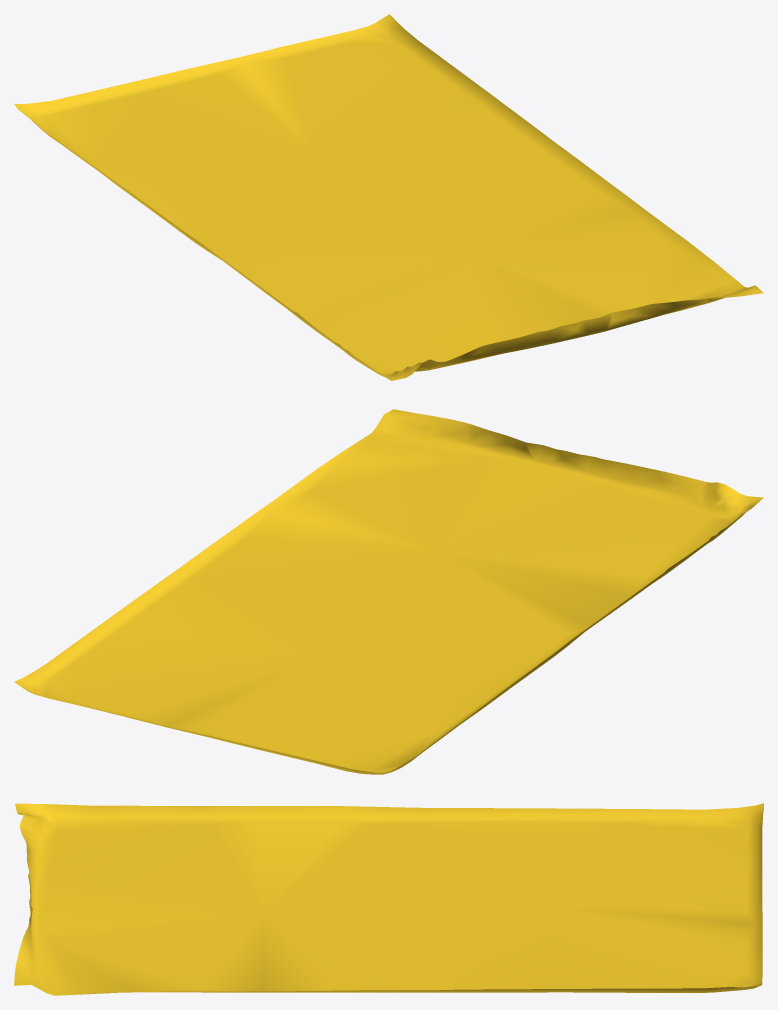
Rendered from SM_Medical_Cart_5_cloth.FBX.
3 views of the same model, one above another, from view 1: azimuth 30°, elevation 25°; view 2: azimuth 150°, elevation 25°; view 3: azimuth 270°, elevation 25° (orthographic).
Parts seen in each view (by area): view 1: Medical_Cart_5_cloth; view 2: Medical_Cart_5_cloth; view 3: Medical_Cart_5_cloth.
Part boxes in pixels (box(x1,y1,x2,y2)): Medical_Cart_5_cloth: box(14, 14, 763, 380); Medical_Cart_5_cloth: box(14, 409, 763, 774); Medical_Cart_5_cloth: box(14, 803, 763, 995).
Size of the model in its own units: 81.23 by 142 by 4.19.
